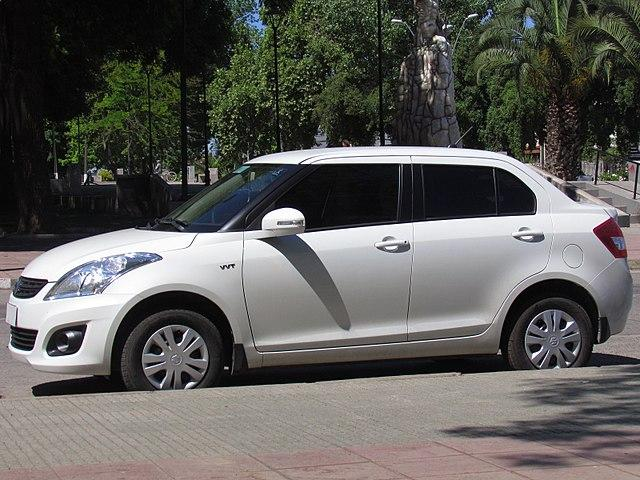car: (1, 105, 640, 439)
